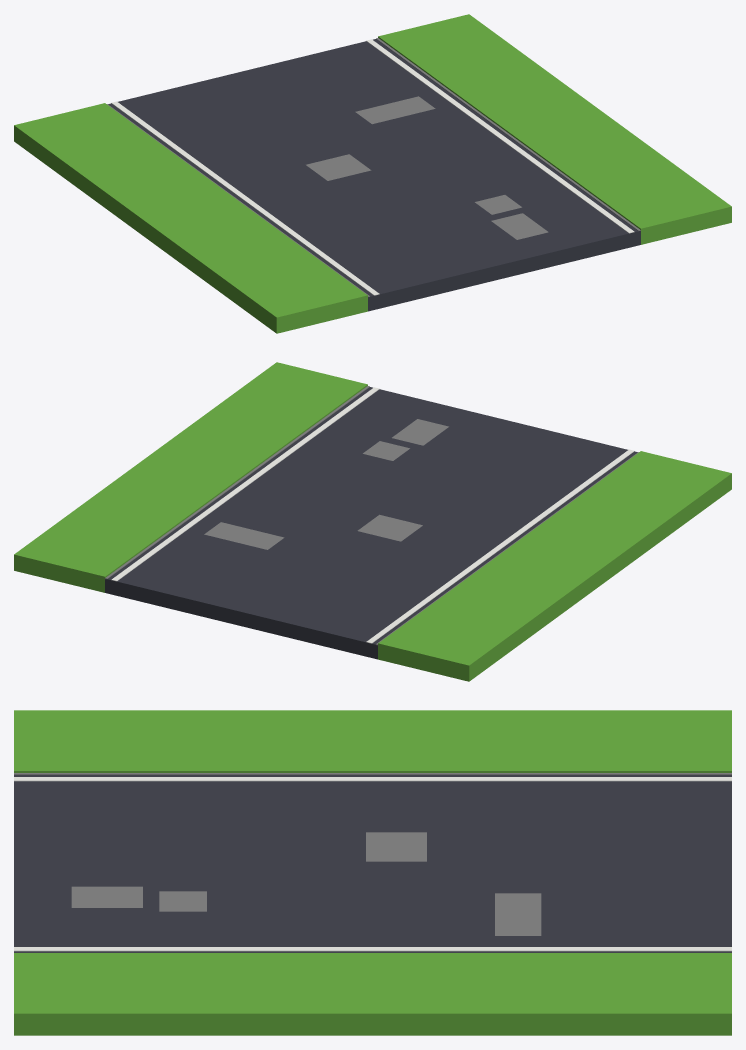
Rendered from env_kb_lane.fbx.
The picture shows the model from 3 angles, top to bottom: view 1: azimuth 30°, elevation 25°; view 2: azimuth 150°, elevation 25°; view 3: azimuth 270°, elevation 25°; orthographic projection. The views are drawn at different scales.
Parts seen in each view (by area): view 1: env_kb_lane_geo; view 2: env_kb_lane_geo; view 3: env_kb_lane_geo.
Part boxes in pixels (x1,y1,x2,y2): env_kb_lane_geo: (14, 14, 731, 333); env_kb_lane_geo: (14, 362, 731, 681); env_kb_lane_geo: (14, 710, 731, 1035).
Bounding box in the file's own units: 10 × 0.34 × 10.
